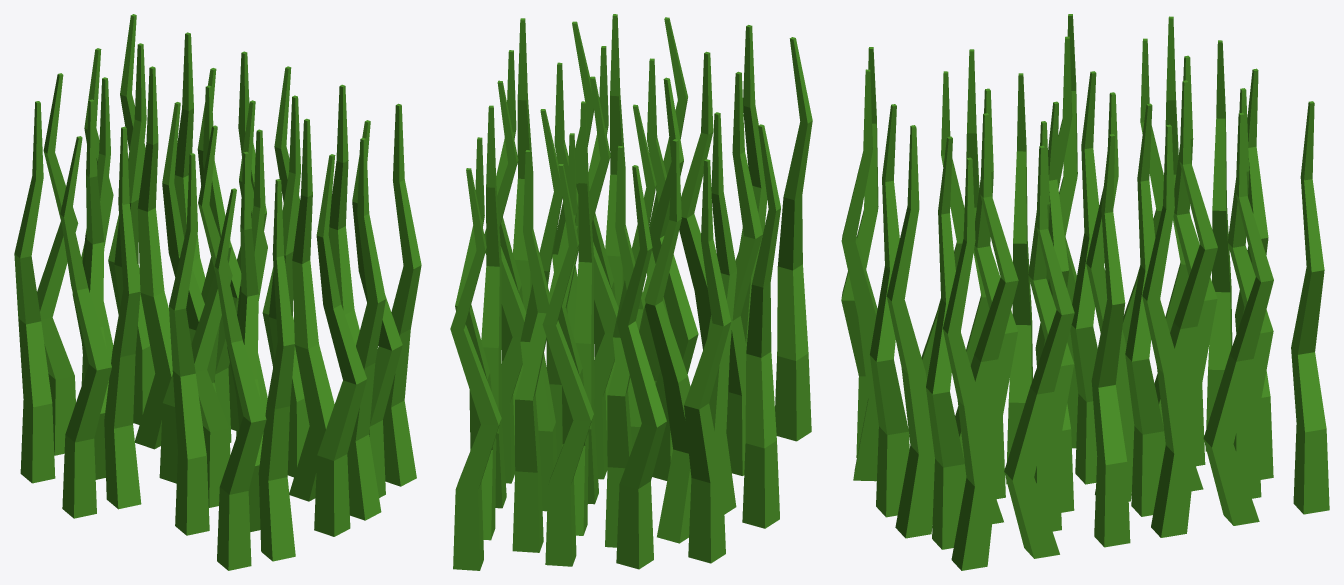
File: Grass_1.glb
3 views of the same model, side by side, from view 1: azimuth 30°, elevation 25°; view 2: azimuth 150°, elevation 25°; view 3: azimuth 270°, elevation 25° (orthographic). The views are drawn at different scales.
Visible parts, largest first — view 1: Cube.001; view 2: Cube.001; view 3: Cube.001.
Boxes of the visible parts, x1,y1,x2,y2 form: Cube.001: (14, 14, 421, 570); Cube.001: (450, 14, 812, 570); Cube.001: (841, 14, 1329, 570).
Size of the model in its own units: 1.36 by 1.6 by 1.75.
